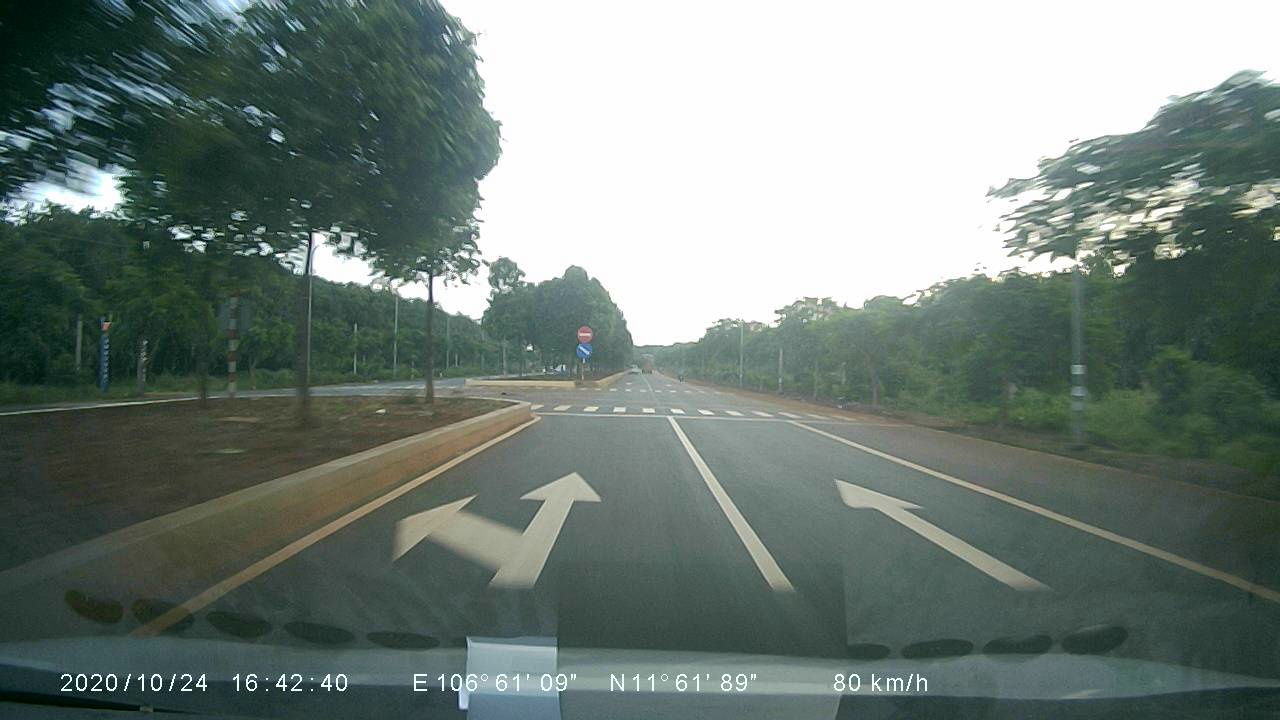Cam di nguoc chieu: (576, 323, 596, 342)
Huong di phai re phai: (576, 340, 593, 356)
